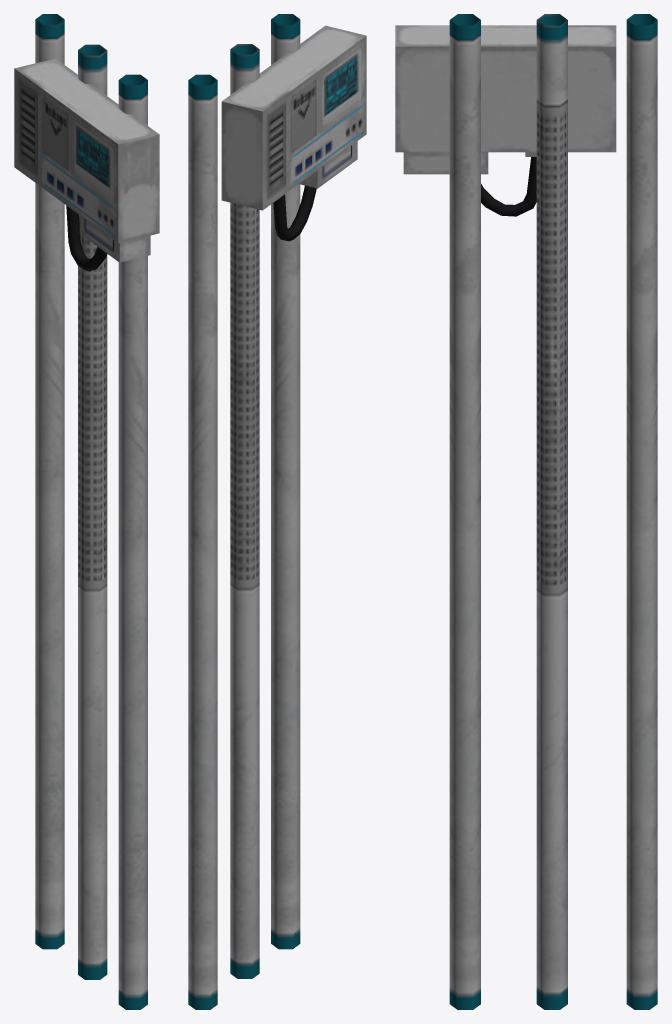
The model's file is CP_Pipe_A_2m_03.fbx.
The picture shows the model from 3 angles, left to right: view 1: azimuth 30°, elevation 25°; view 2: azimuth 150°, elevation 25°; view 3: azimuth 270°, elevation 25°; orthographic projection. The views are drawn at different scales.
Visible parts, largest first — view 1: CP_Pipe_A_2m_03; view 2: CP_Pipe_A_2m_03; view 3: CP_Pipe_A_2m_03.
Part boxes in pixels (x1,y1,x2,y2): CP_Pipe_A_2m_03: [14, 14, 159, 1009]; CP_Pipe_A_2m_03: [188, 14, 366, 1009]; CP_Pipe_A_2m_03: [395, 14, 657, 1009].
Bounding box in the file's own units: 13.33 × 200 × 48.32.
